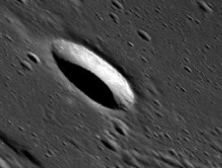crater: (44, 23, 136, 141)
